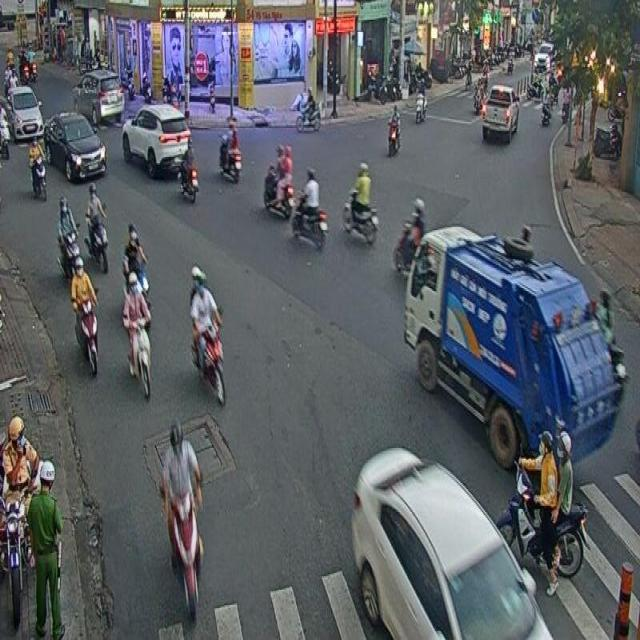car: (353, 449, 553, 640), (122, 104, 191, 176), (43, 112, 106, 182)
motorcycle: (497, 430, 589, 579), (162, 419, 201, 619), (190, 265, 227, 405), (122, 271, 151, 398), (70, 257, 98, 375), (291, 168, 328, 250), (263, 145, 293, 221), (84, 183, 108, 273), (56, 196, 80, 266), (218, 120, 242, 183), (178, 136, 198, 202), (28, 136, 46, 201), (387, 104, 400, 157)
truck: (404, 221, 624, 466)
